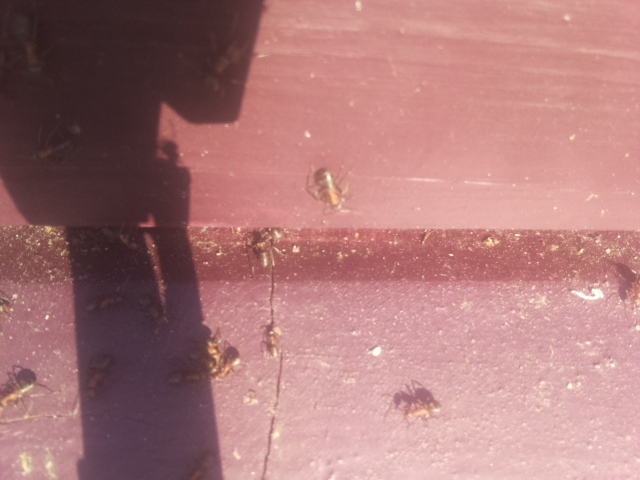ant: (0, 0, 56, 81), (308, 160, 350, 218), (28, 126, 88, 166), (79, 350, 119, 405), (0, 364, 41, 414), (81, 288, 131, 319), (180, 449, 223, 480), (214, 339, 242, 386), (249, 230, 278, 273), (399, 396, 444, 421), (261, 320, 281, 363)
